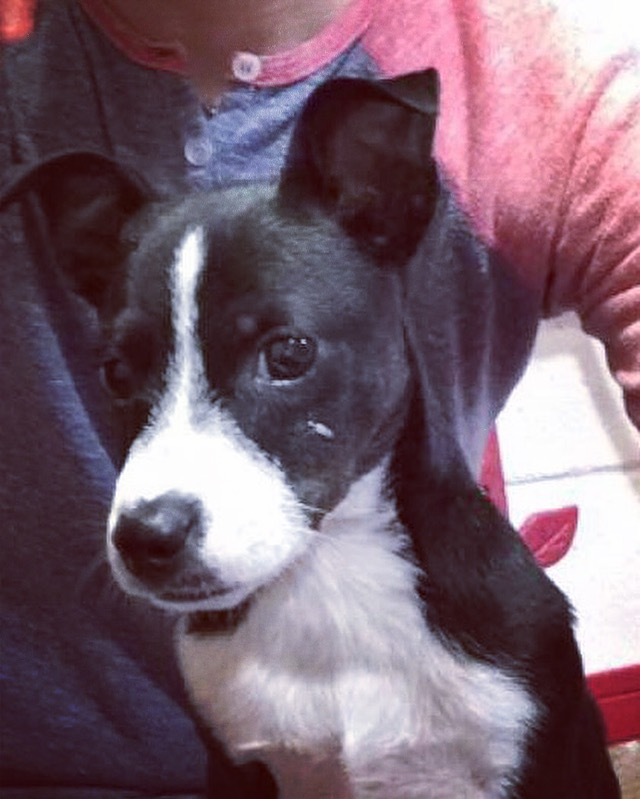Harley: (28, 71, 620, 799)
